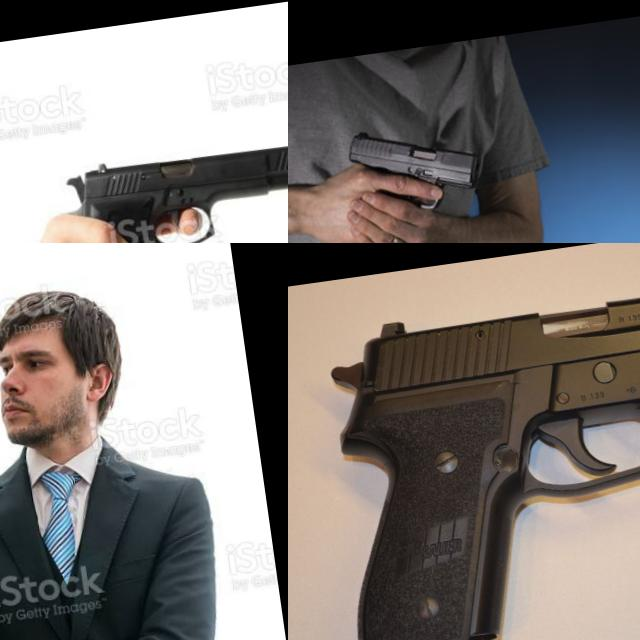handgun: (309, 261, 640, 640), (42, 131, 288, 243), (343, 113, 492, 222), (0, 347, 57, 499)
